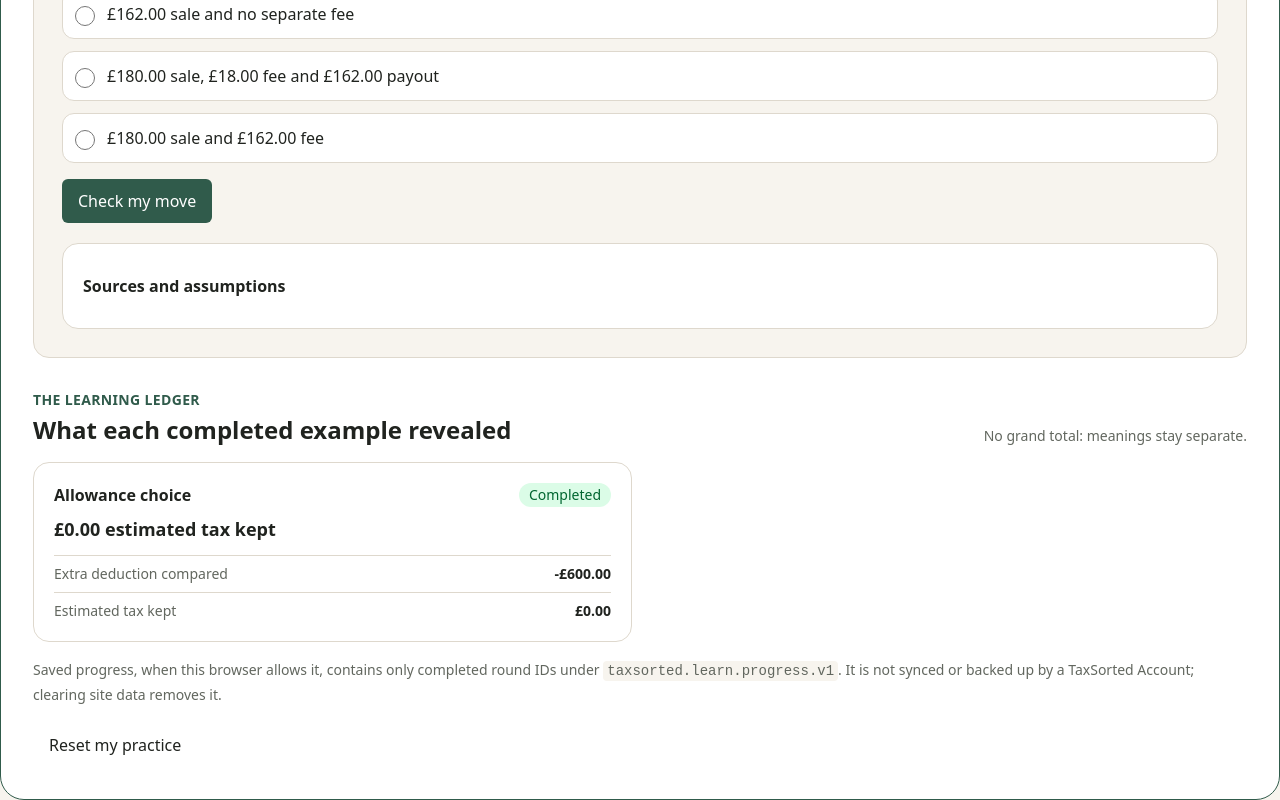
learning playground › does not pretend saved progress was removed when browser storage refuses
The image size is (1280, 800).
(page scrolled)
Click the button "Reset my practice".
click(115, 745)  # box [33, 723, 197, 767]
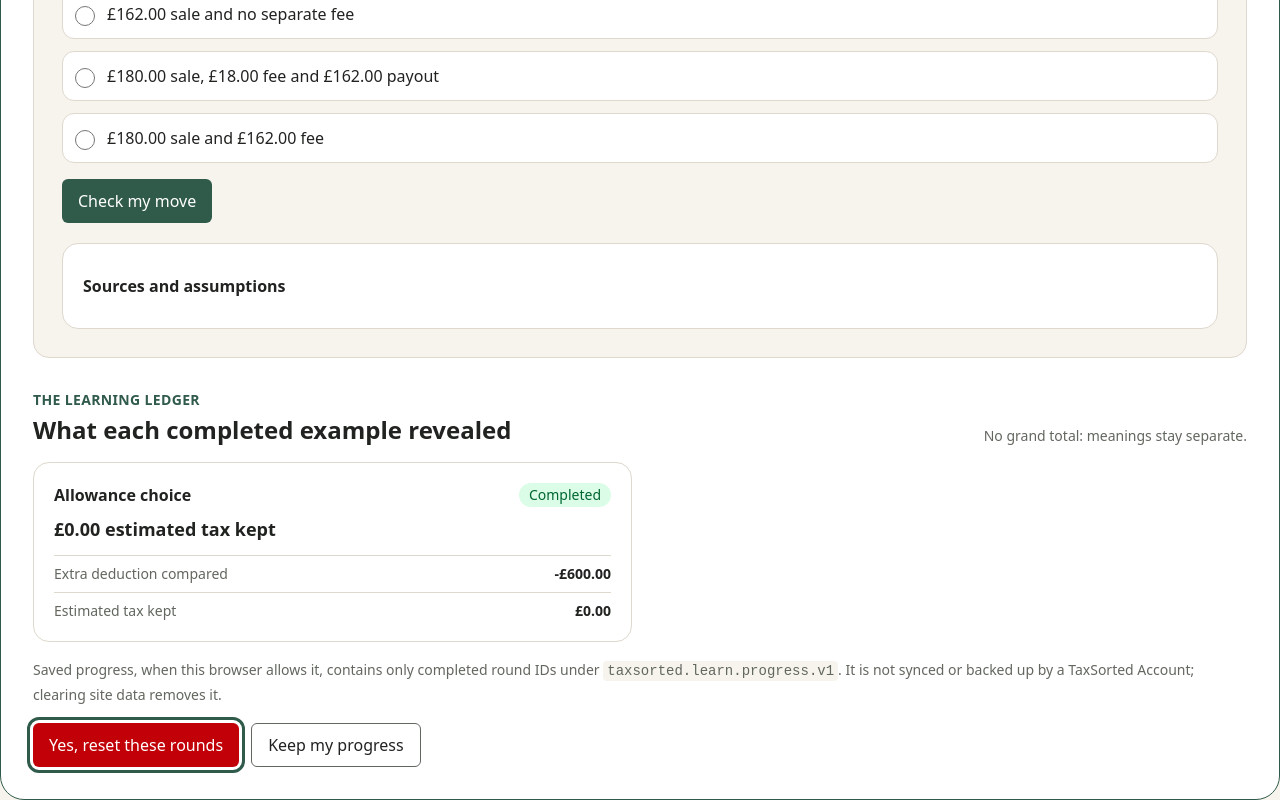
Click the button "Yes, reset these rounds".
click(136, 745)  # box [33, 723, 239, 767]
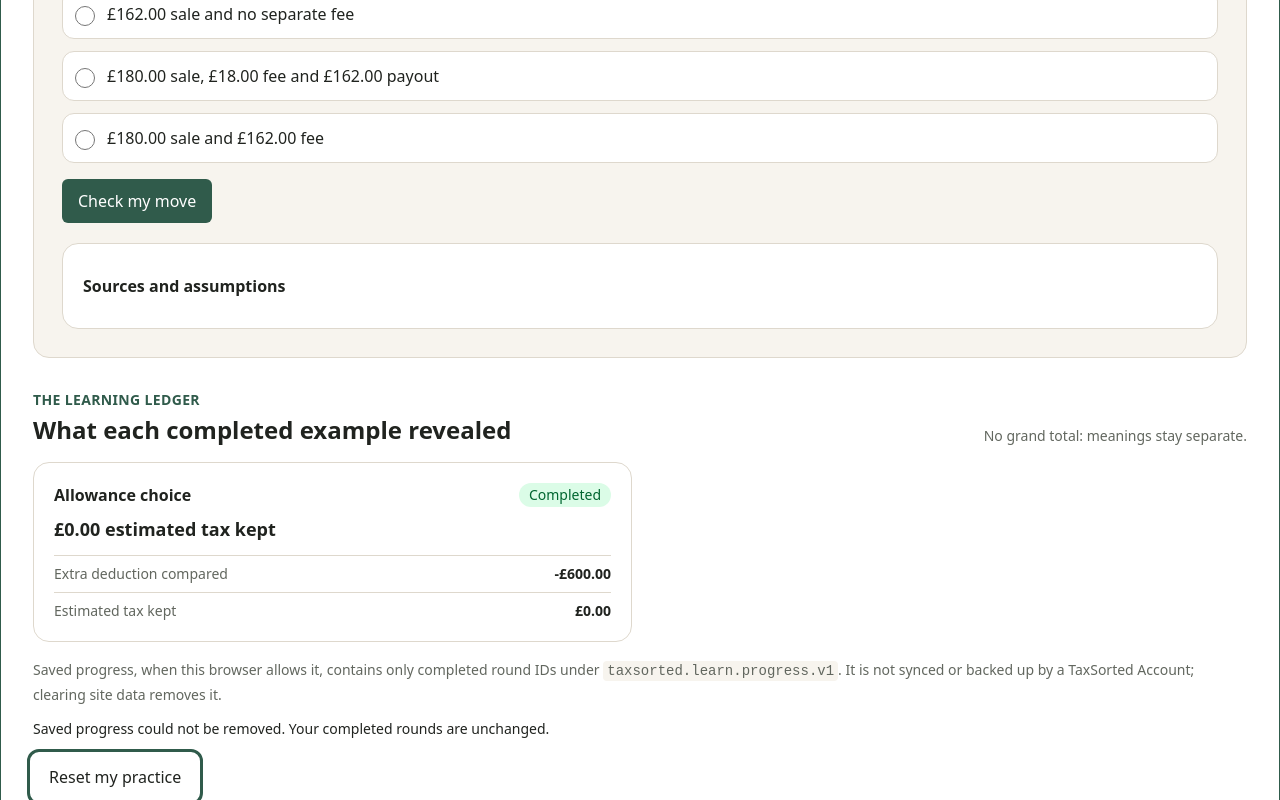
Expected: the text "Saved progress could not be removed. Your completed rounds are unchanged." is shown, [33, 719, 549, 738]
